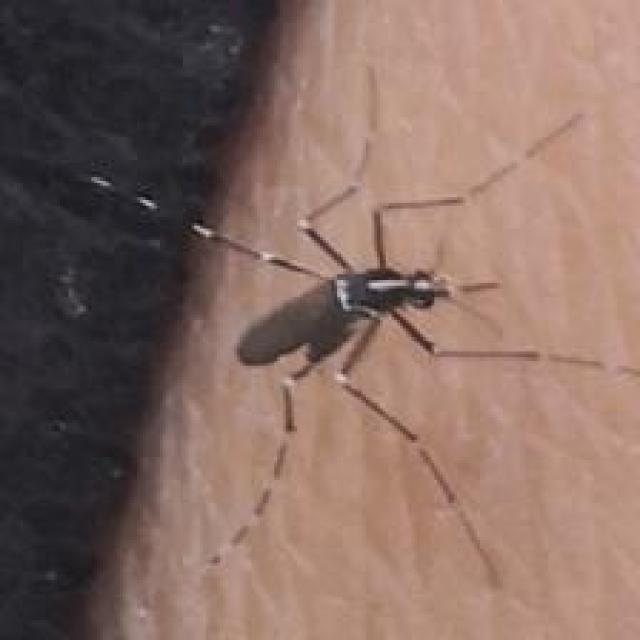Aedes albopictus: (189, 182, 540, 444)
